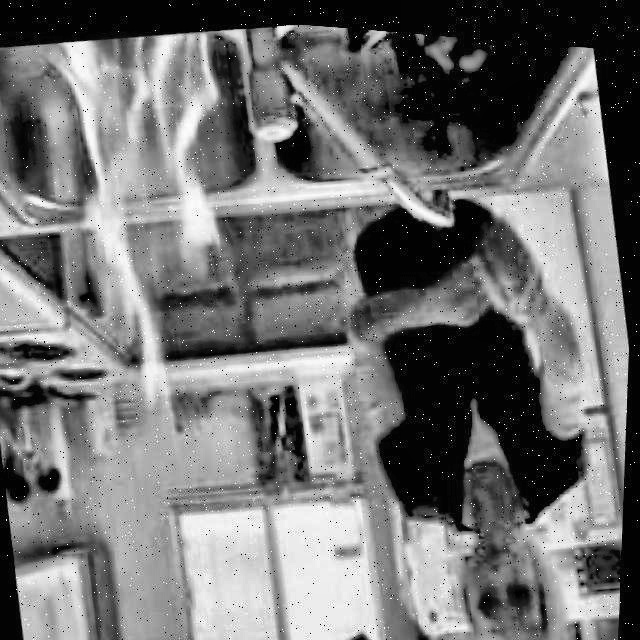Fire: (45, 16, 272, 416)
